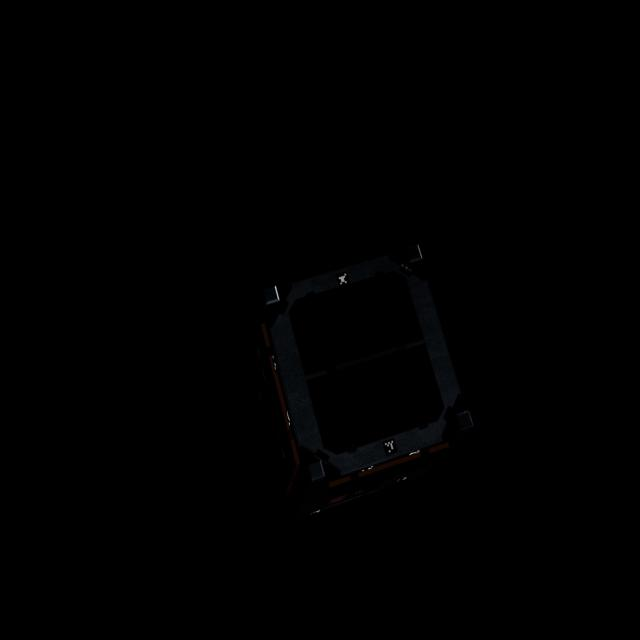medium_debris: (256, 242, 485, 522)
